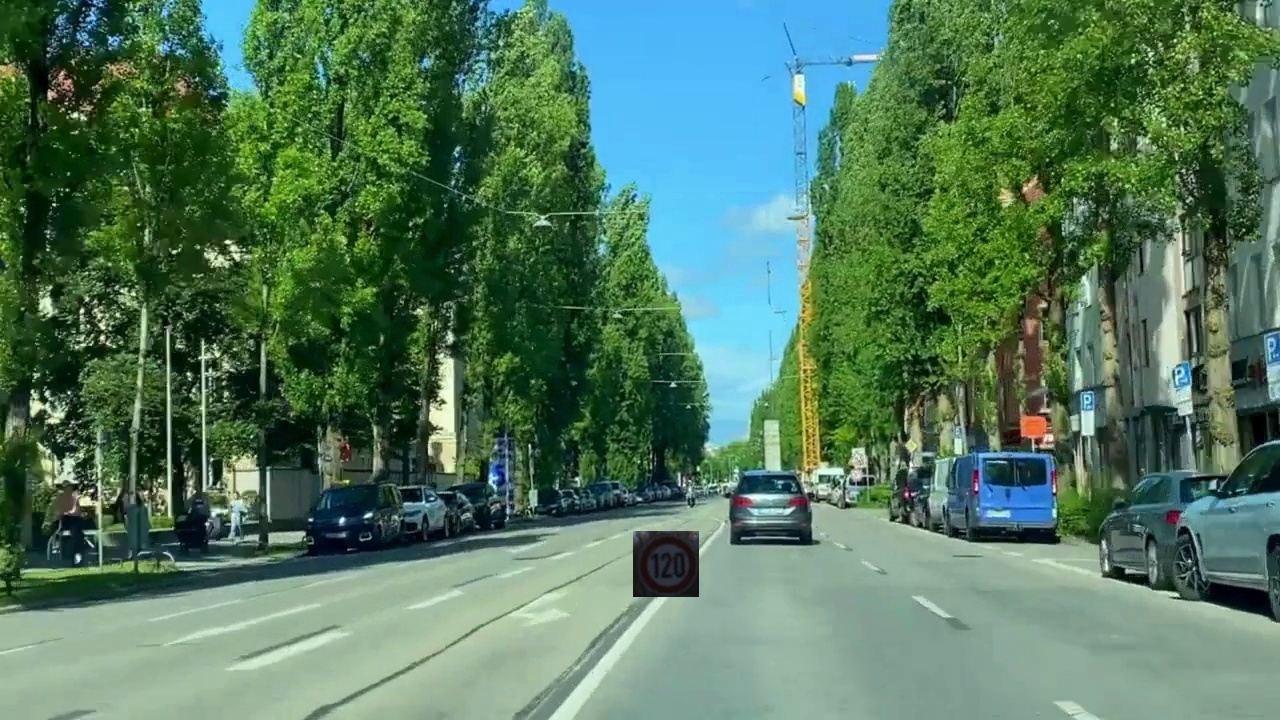Speed 120: (633, 531, 699, 597)
